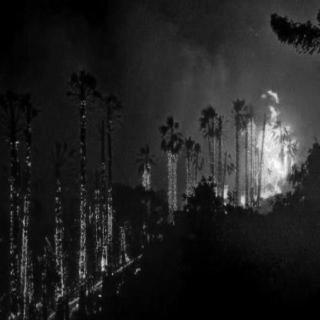Fire: (223, 183, 230, 195)
